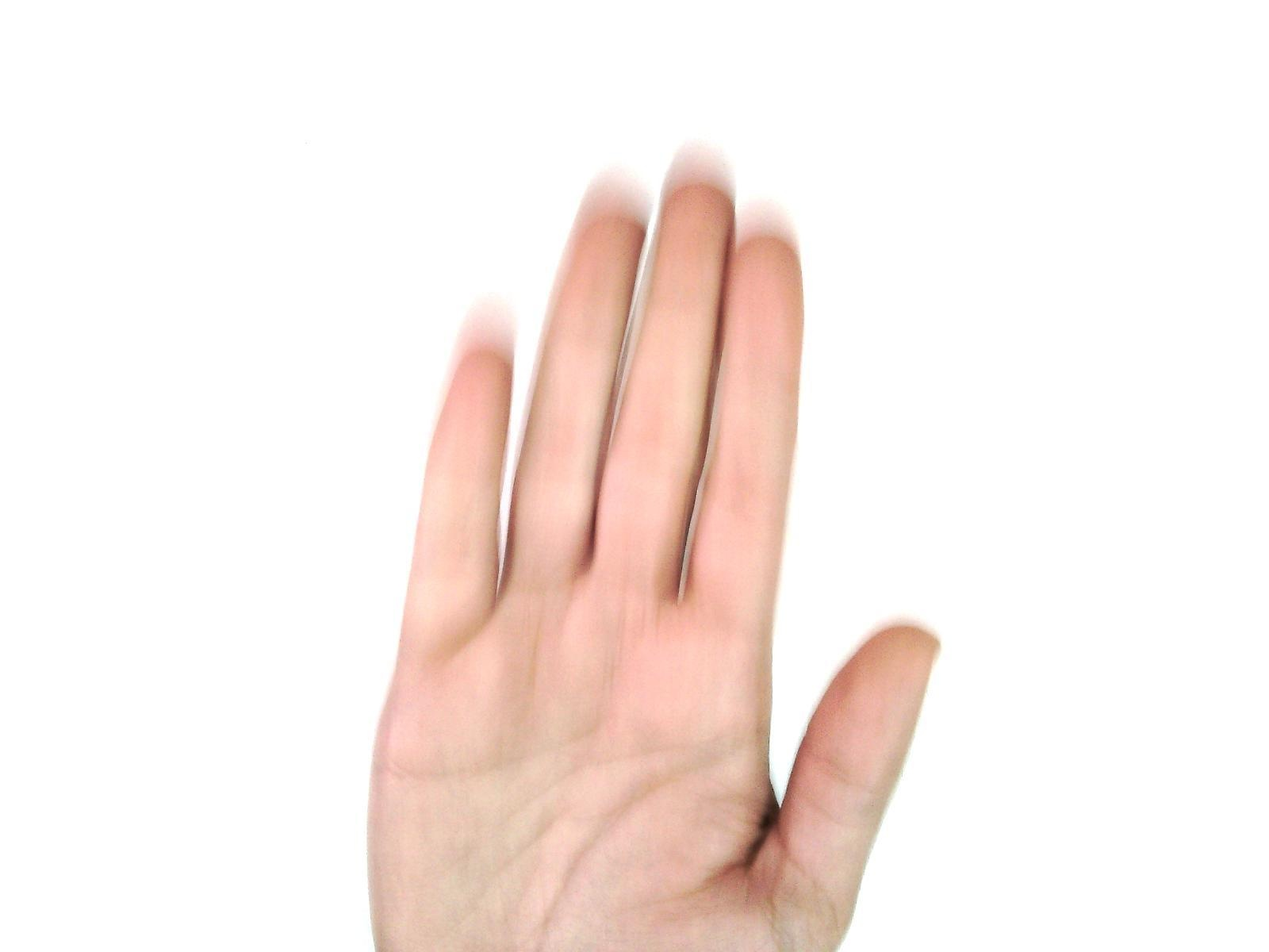open_palm: (362, 155, 943, 951)
